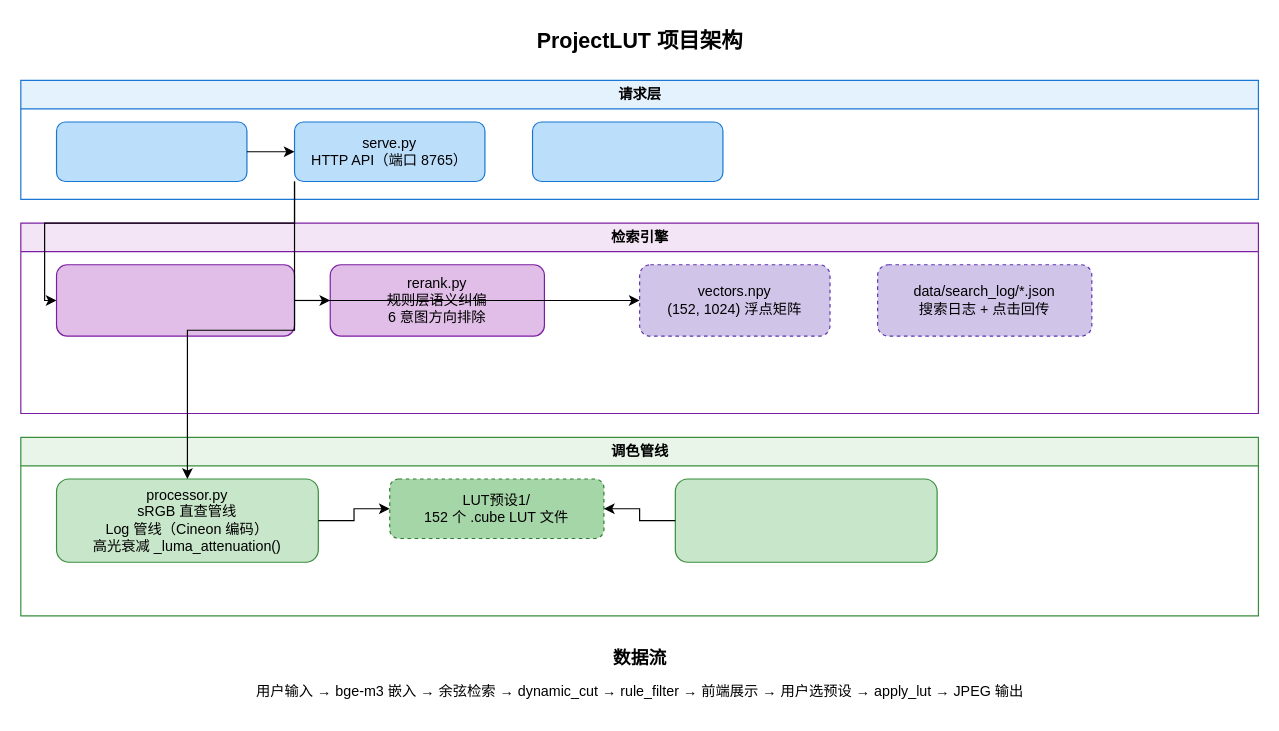
Image size: 1279x731. Some labels were removed from this diagram. Each missing label, with the box of its shape:
app.html 浏览器 GUI: (55, 121, 247, 181)
cli.py 命令行入口: (531, 121, 723, 181)
direct_embed.py bge-m3 嵌入 + 余弦检索 dynamic_cut + 搜索日志: (55, 264, 295, 336)
parser.py Preset 模型 + .cube 解析 contrast/saturation/tone 元数据: (674, 478, 937, 562)
